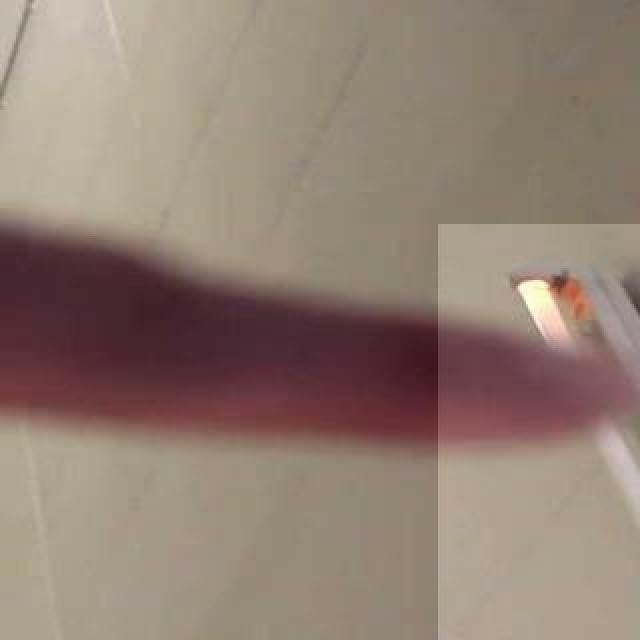fluorescent tube: (464, 208, 640, 640)
